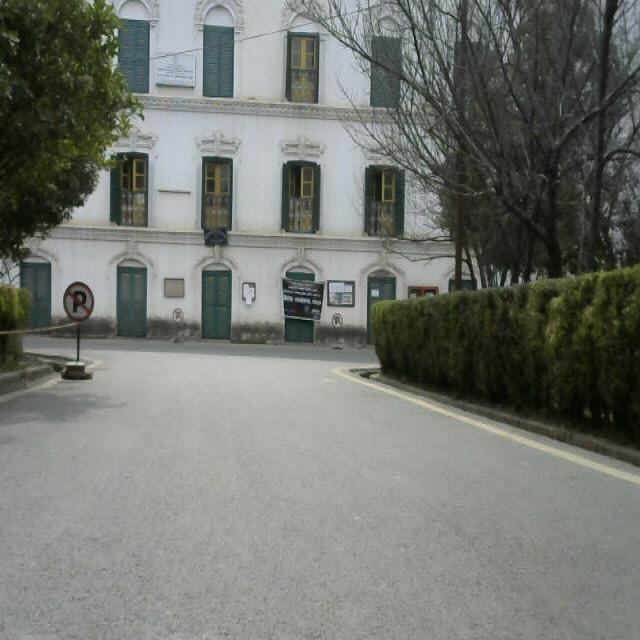Buildings: (118, 28, 434, 359)
Road: (0, 368, 458, 640), (470, 436, 610, 640)
trees: (432, 6, 636, 277), (375, 276, 640, 398), (0, 0, 113, 267)
